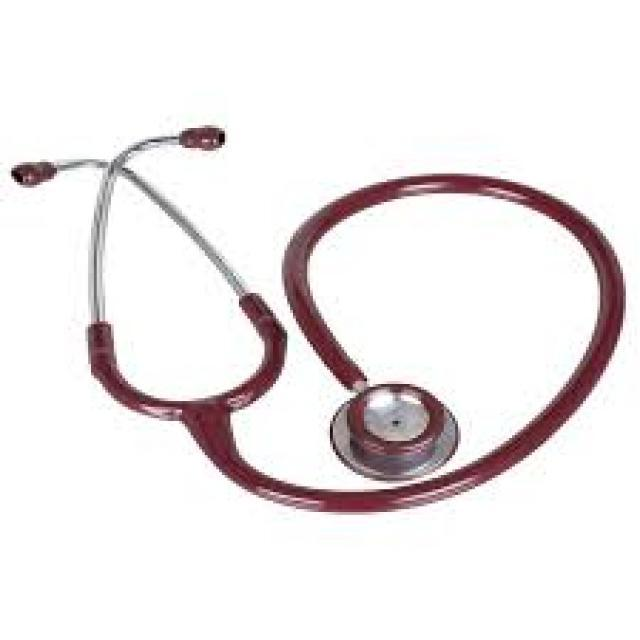stethoscope: (96, 72, 628, 572)
